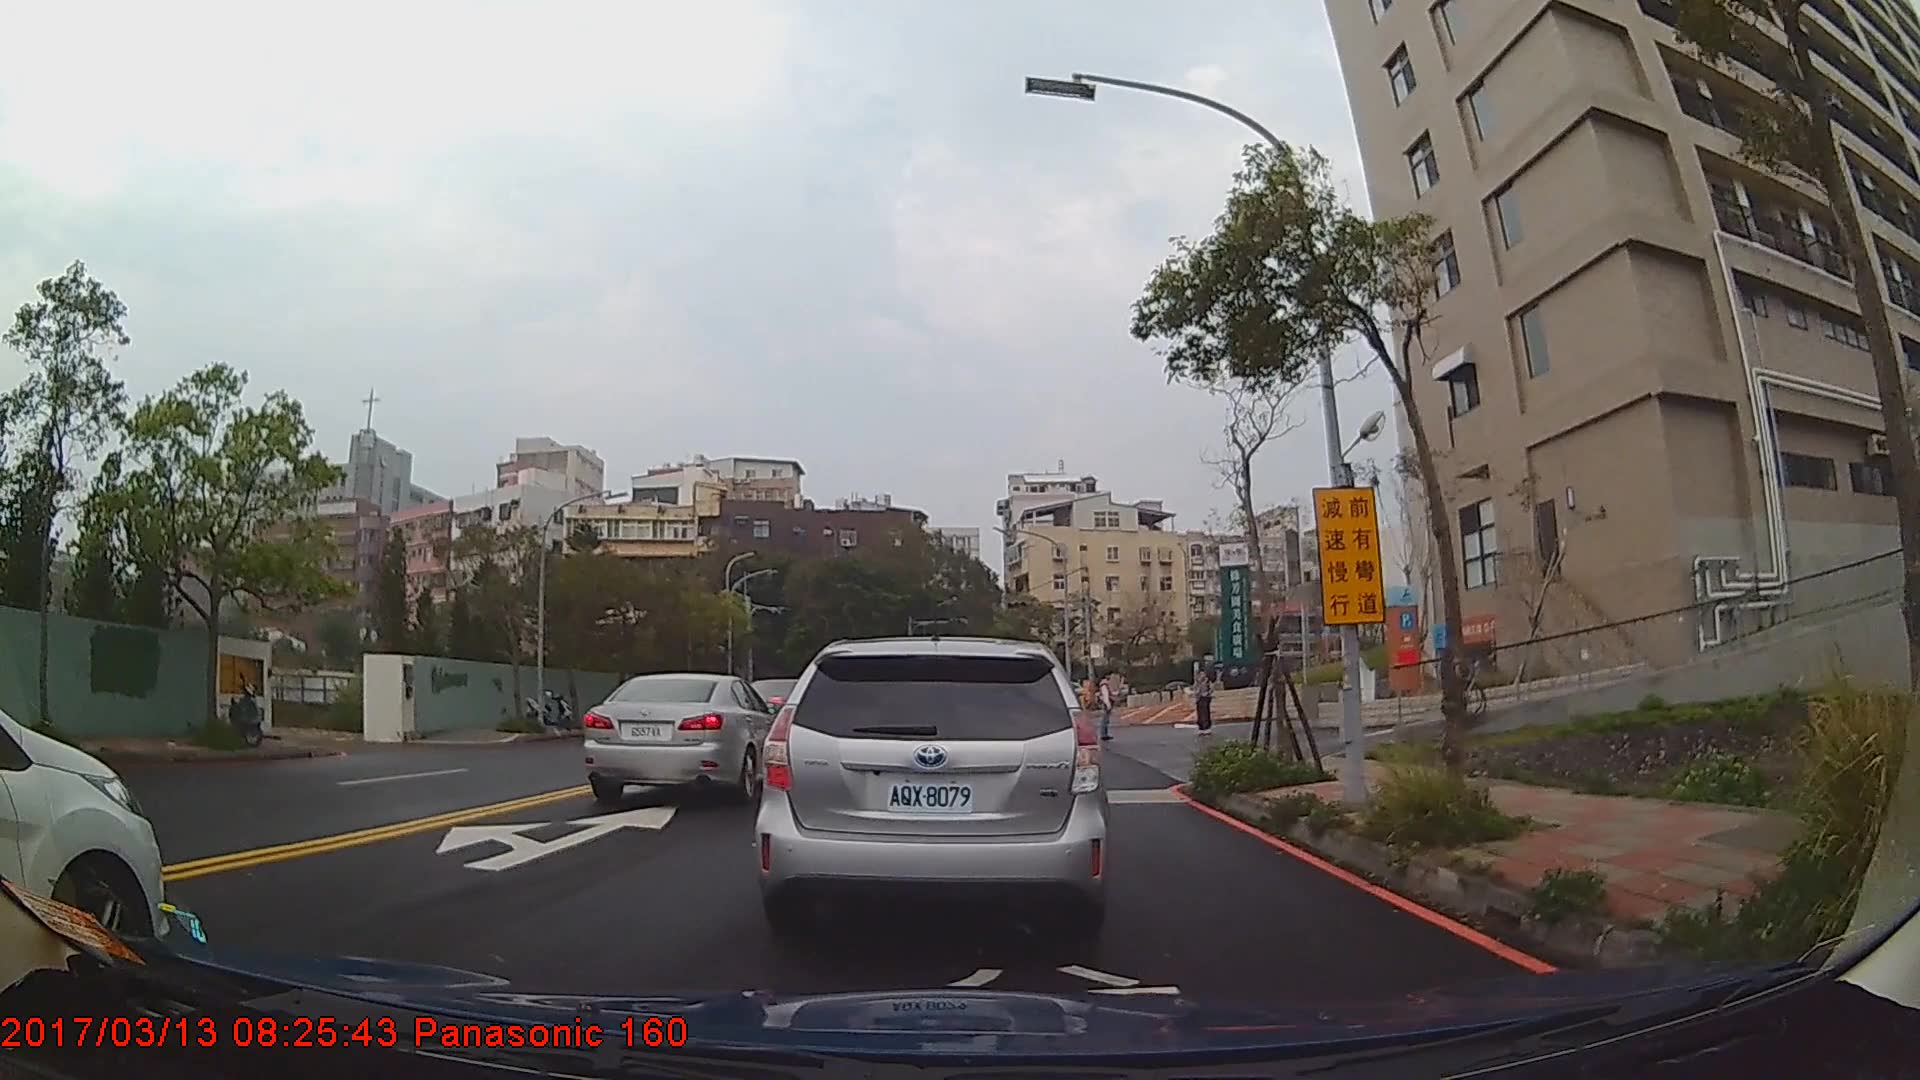pedestrian: (1097, 667, 1120, 743), (1194, 673, 1214, 736)
vehicle: (755, 637, 1112, 939), (0, 698, 169, 970), (579, 671, 785, 803)
